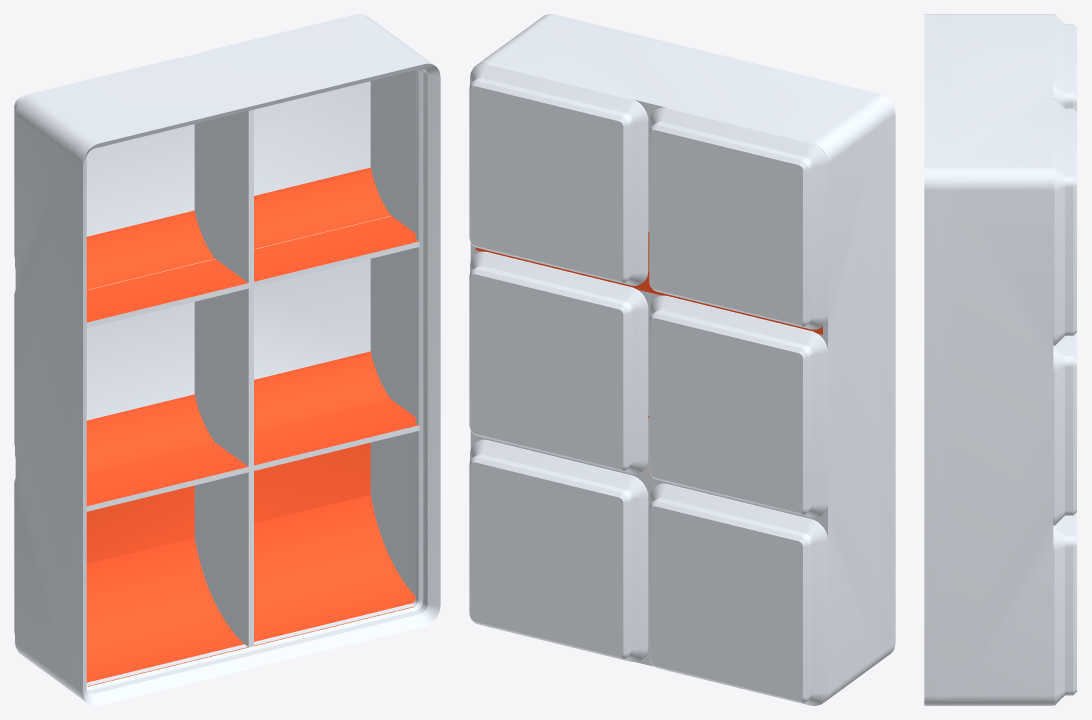
The model's file is hero-divided-scooped.glb.
3 views of the same model, side by side, from view 1: azimuth 30°, elevation 25°; view 2: azimuth 150°, elevation 25°; view 3: azimuth 270°, elevation 25° (orthographic). The views are drawn at different scales.
Bounding box in the file's own units: 83.5 × 126 × 32.41.
